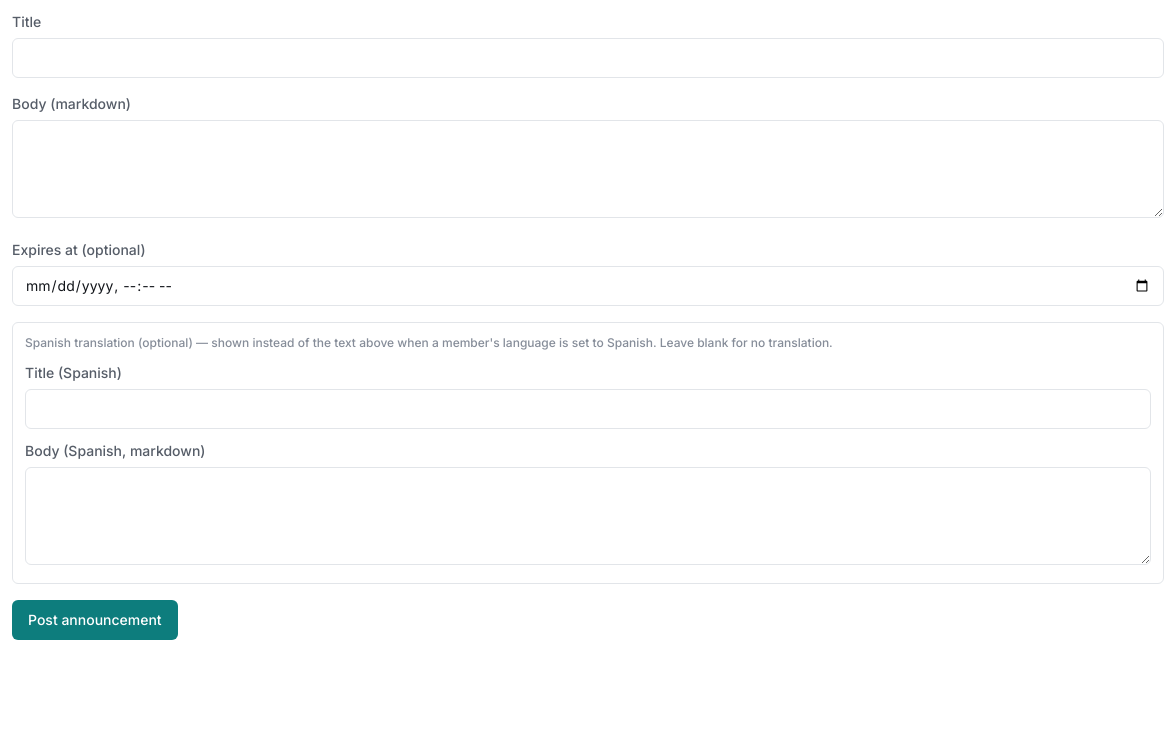
Test: CreateOrgAnnouncementForm › renders an error returned by the action
Step 1. Type "T" into the field labelled "Title" → (588, 58), box [12, 38, 1164, 78]
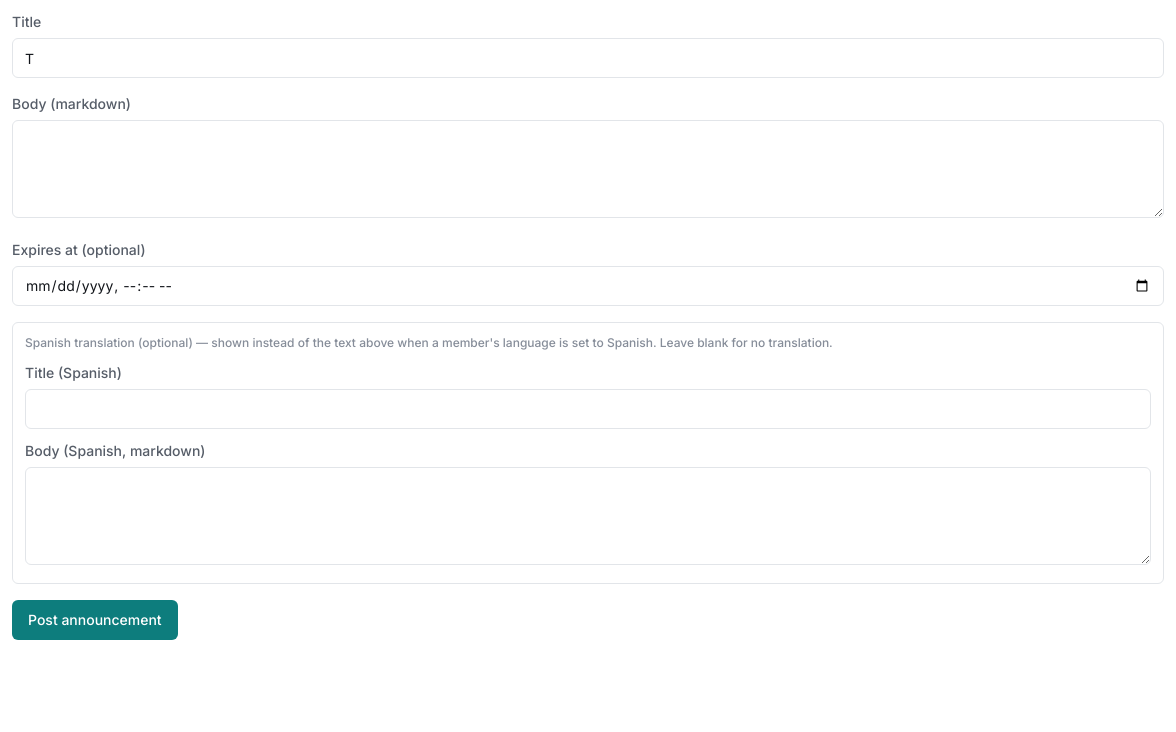
Step 2. Type "B" into the text box labelled "Body (markdown)" → (588, 169), box [12, 120, 1164, 218]
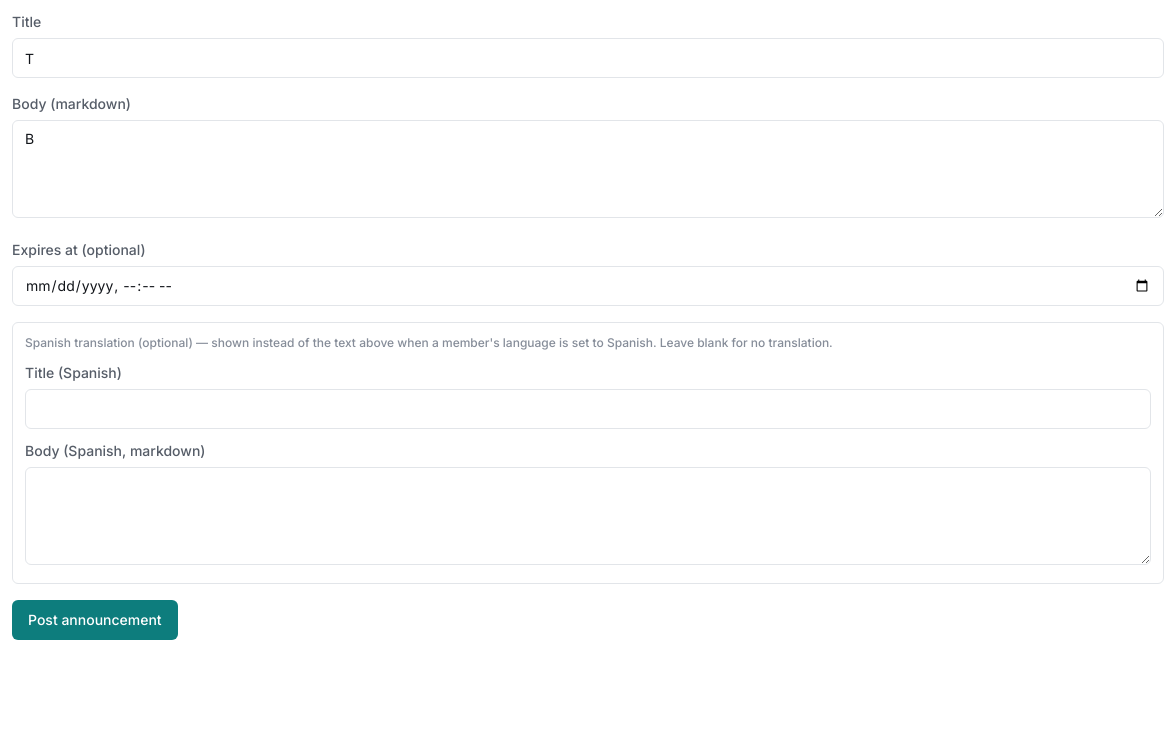
Step 3. Click the button "Post announcement" → (95, 620), box [12, 600, 178, 640]
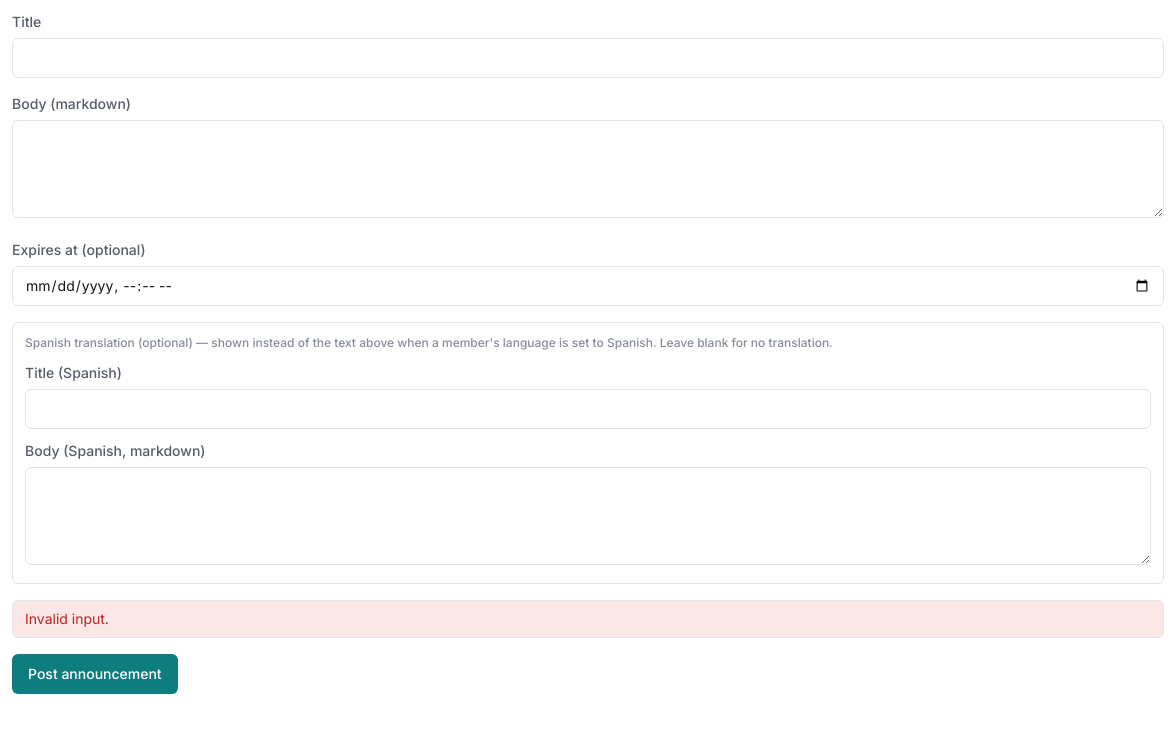
Expected: the message reads "Invalid input.", [25, 610, 109, 627]
